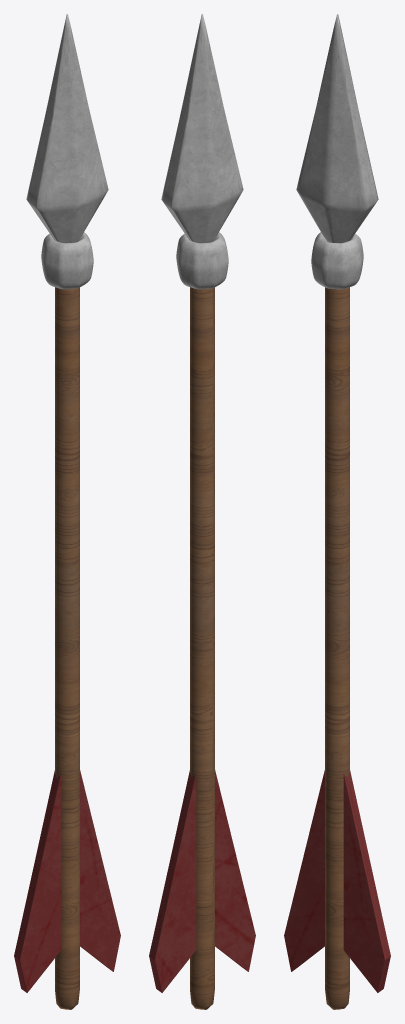
File: arrow.glb
3 renders of one model, left to right at view 1: azimuth 30°, elevation 25°; view 2: azimuth 210°, elevation 25°; view 3: azimuth 330°, elevation 25°, orthographic.
Parts seen in each view (by area): view 1: group15 (×3); view 2: group15 (×3); view 3: group15 (×3).
Part boxes in pixels (x1=…): group15 (×3): x1=14, y1=14, x2=120, y2=1009; group15 (×3): x1=149, y1=14, x2=255, y2=1009; group15 (×3): x1=284, y1=14, x2=390, y2=1009.
Size of the model in its own units: 0.2909 by 2.73 by 0.135.
3 materials, 3 textured.
